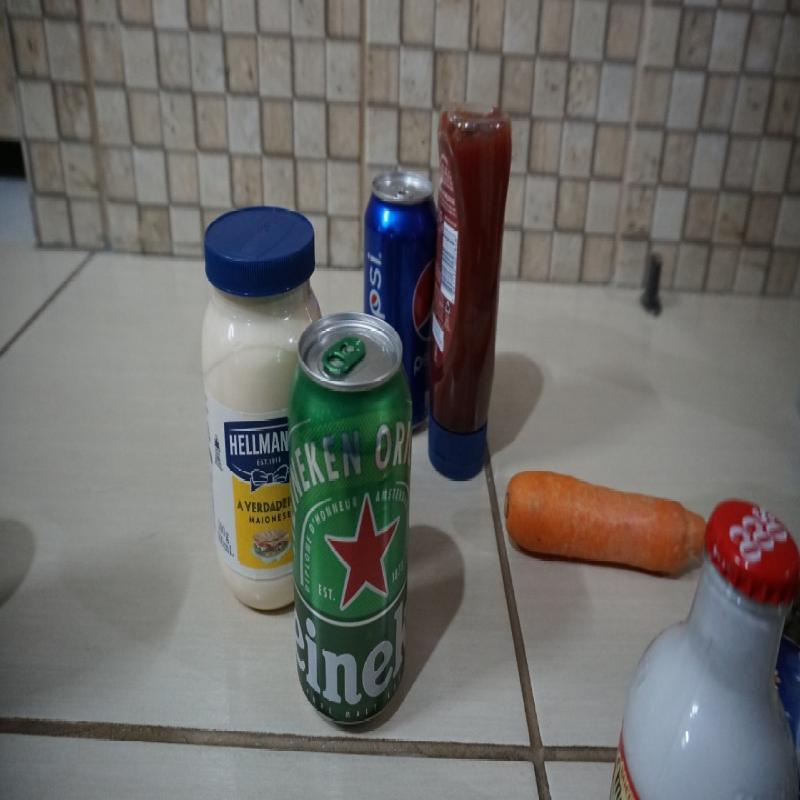Beer can: (289, 308, 410, 724)
Carrot: (504, 471, 709, 578)
Coconut Milk: (609, 498, 800, 800)
Ketchup: (428, 95, 512, 485)
Mayonnaise: (198, 206, 324, 614)
Soda can: (364, 176, 436, 425)
